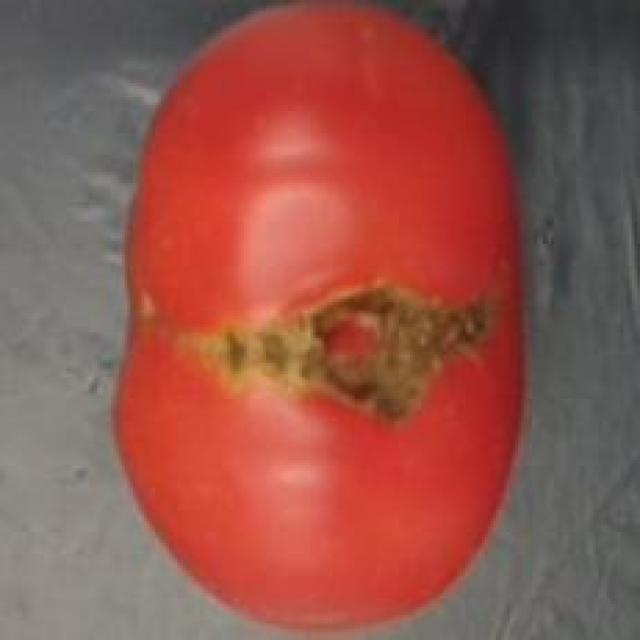overripe tomato: (97, 0, 537, 640)
